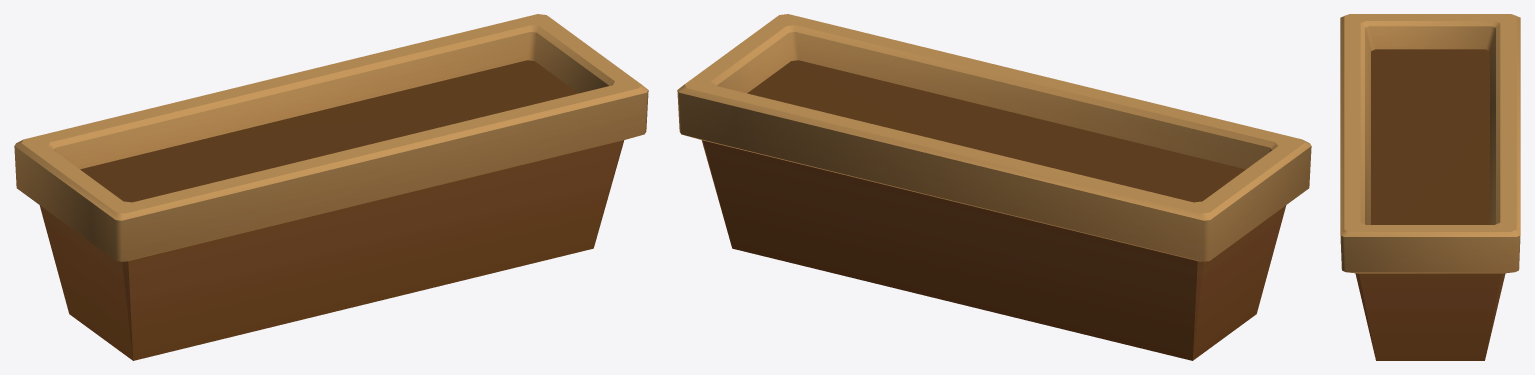
The model's file is PlantPot_3_A.fbx.
The picture shows the model from 3 angles, left to right: view 1: azimuth 30°, elevation 25°; view 2: azimuth 150°, elevation 25°; view 3: azimuth 270°, elevation 25°; orthographic projection. The views are drawn at different scales.
Visible parts, largest first — view 1: PlantPot_3_A; view 2: PlantPot_3_A; view 3: PlantPot_3_A.
Part boxes in pixels (x1,y1,x2,y2): PlantPot_3_A: (14, 14, 648, 360); PlantPot_3_A: (677, 14, 1311, 360); PlantPot_3_A: (1340, 14, 1520, 360).
Size of the model in its own units: 79.88 by 24 by 27.48.
